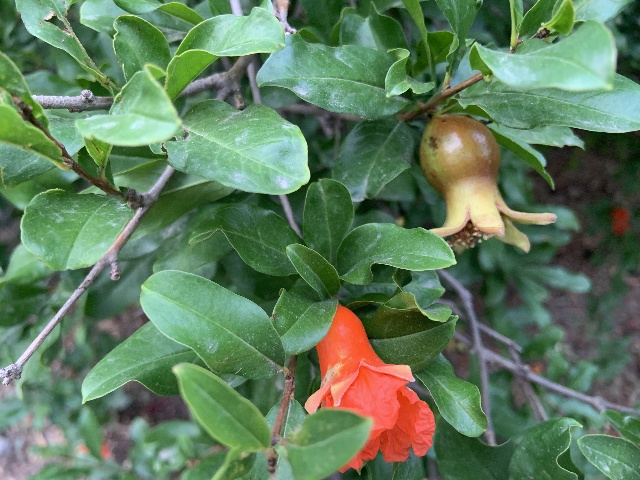early-fruit: (420, 114, 556, 254)
flower: (305, 304, 434, 473)
